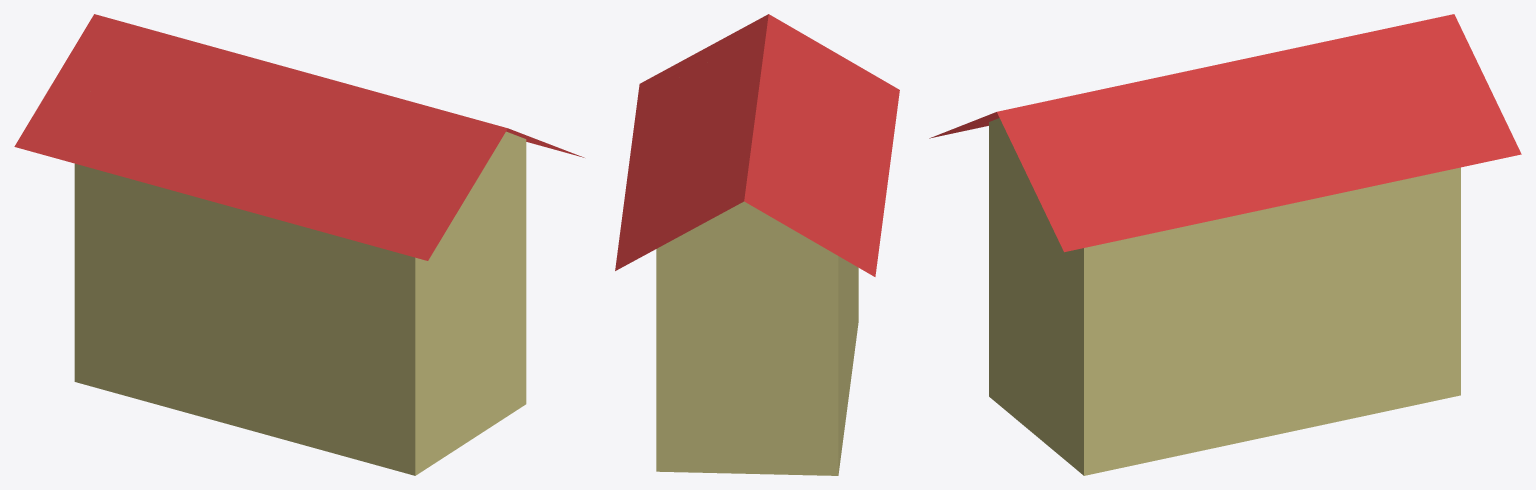
3 renders of one model, left to right at view 1: azimuth 30°, elevation 25°; view 2: azimuth 150°, elevation 25°; view 3: azimuth 270°, elevation 25°, orthographic. The views are drawn at different scales.
Bounding box in the file's own units: 11.06 × 13.13 × 8.14.
